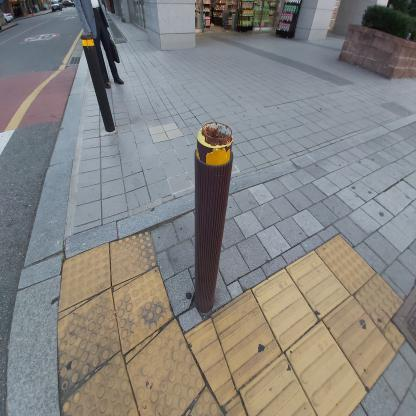podotacti: (43, 221, 409, 416)
